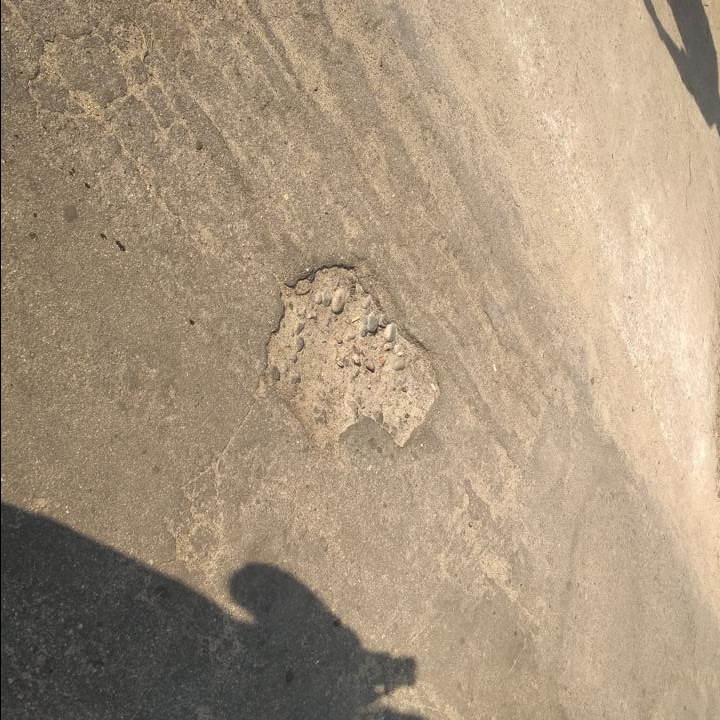pothole: (262, 256, 444, 451)
